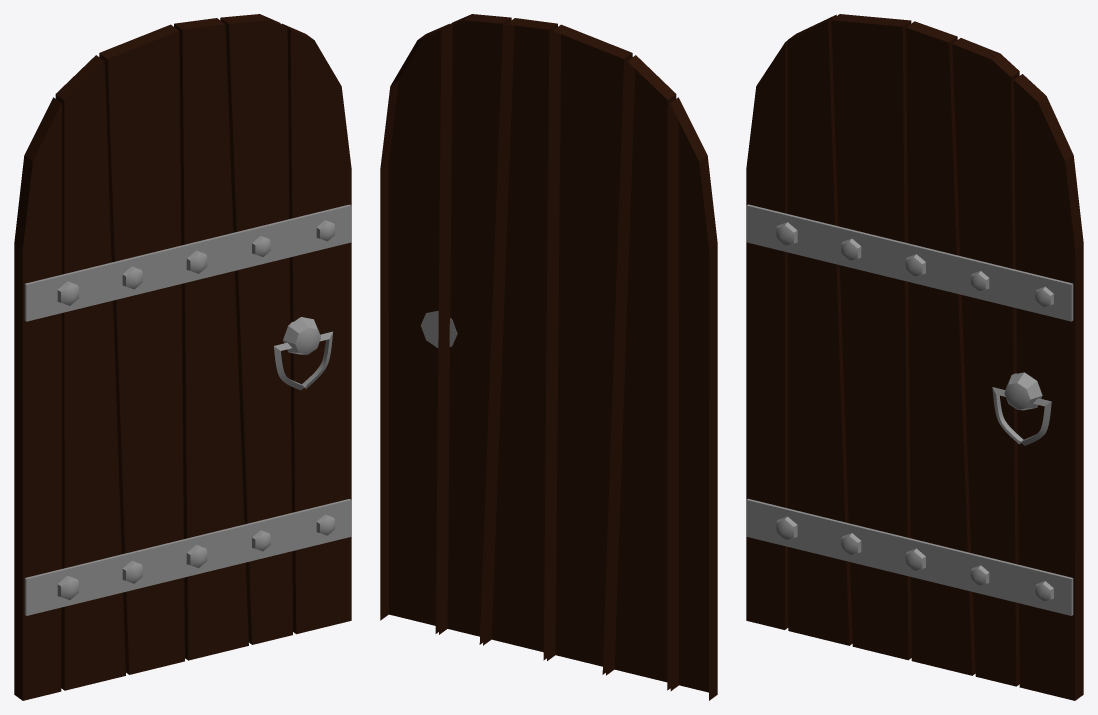
File: Door.FBX
The picture shows the model from 3 angles, left to right: view 1: azimuth 30°, elevation 25°; view 2: azimuth 150°, elevation 25°; view 3: azimuth 330°, elevation 25°; orthographic projection.
Visible parts, largest first — view 1: Door; view 2: Door; view 3: Door.
Boxes of the visible parts, x1,y1,x2,y2 form: Door: [14, 14, 351, 700]; Door: [380, 14, 717, 700]; Door: [746, 14, 1083, 700].
Bounding box in the file's own units: 79.58 × 146 × 7.86.
